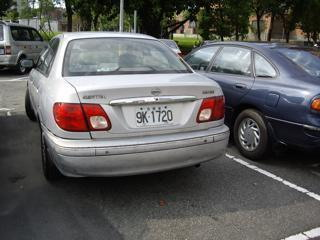plate: (133, 104, 177, 129)
